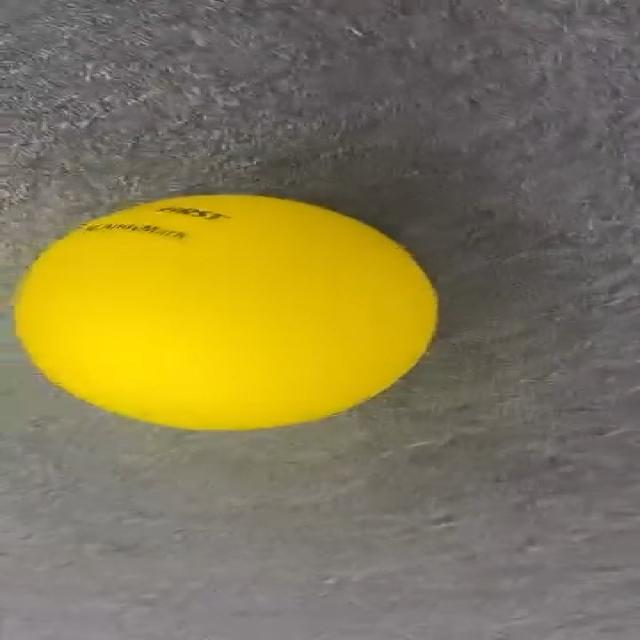Fuels: (16, 195, 436, 429)
